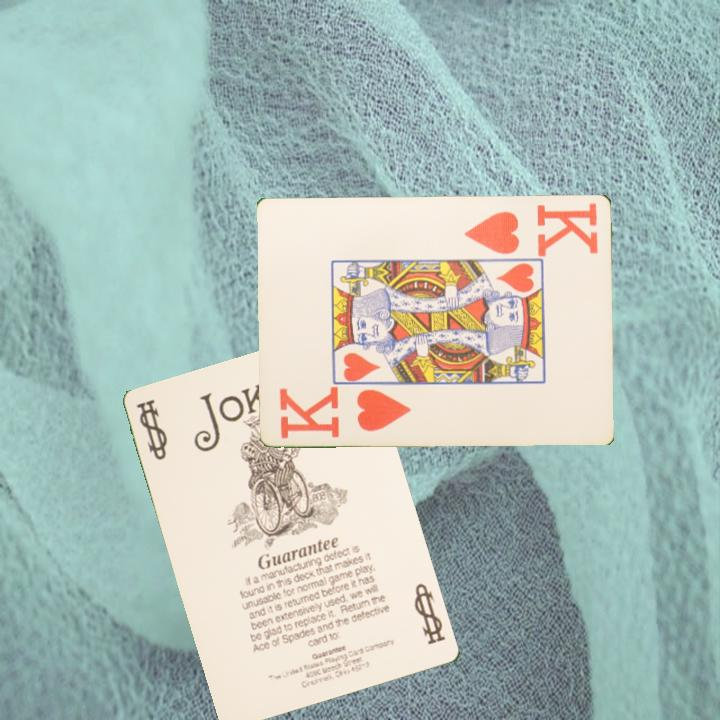JK: (411, 580, 449, 648), (133, 396, 171, 464)
Kh: (461, 198, 602, 256), (276, 385, 414, 441)
